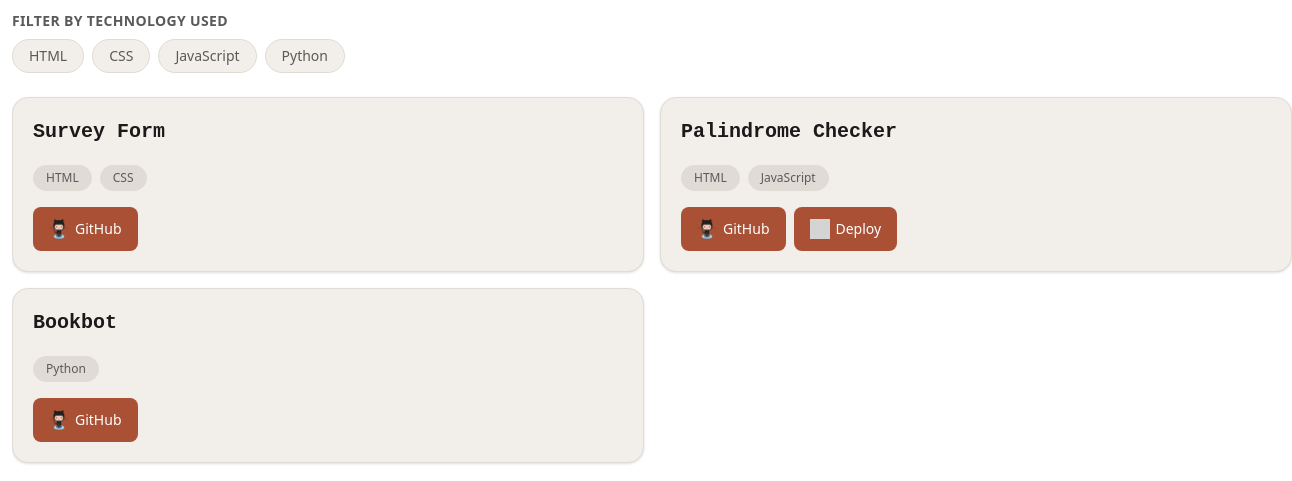
Test: PortfolioGrid › restores the full list when a filter is toggled off
Click the button "CSS" at [121, 56], box 92,39 -> 150,73
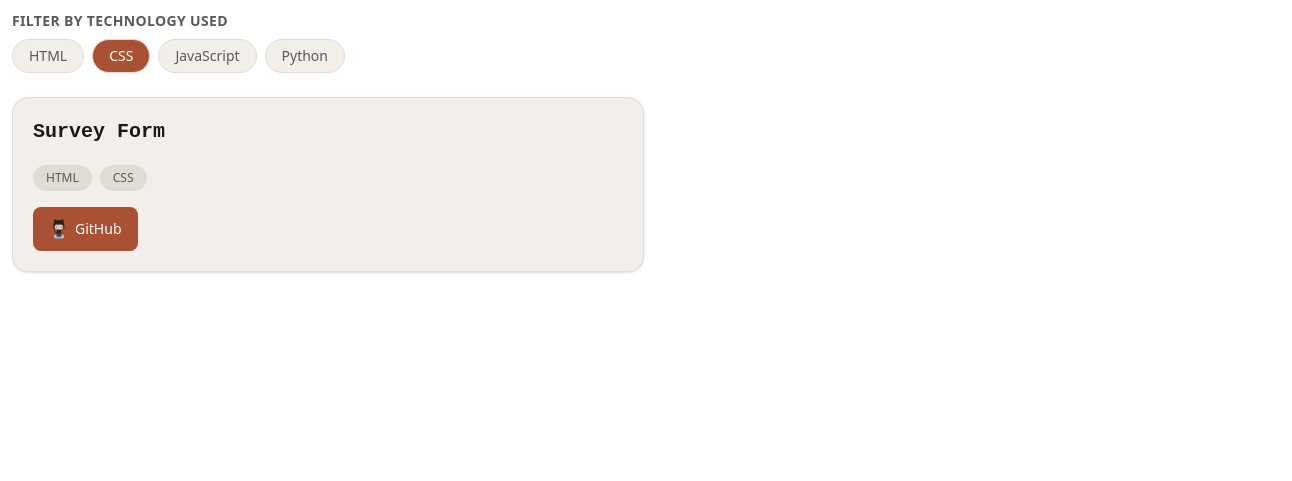
Click the button "CSS" at [121, 56], box 92,39 -> 150,73
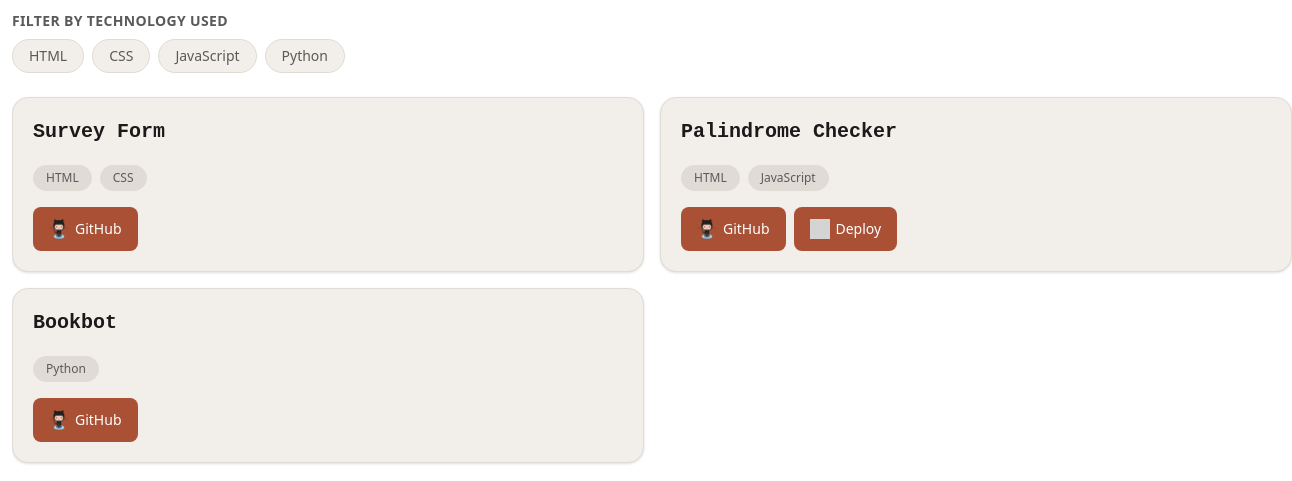
Now the number of headings is 3, box 33,120 -> 165,143; 681,120 -> 897,143; 33,311 -> 117,334
